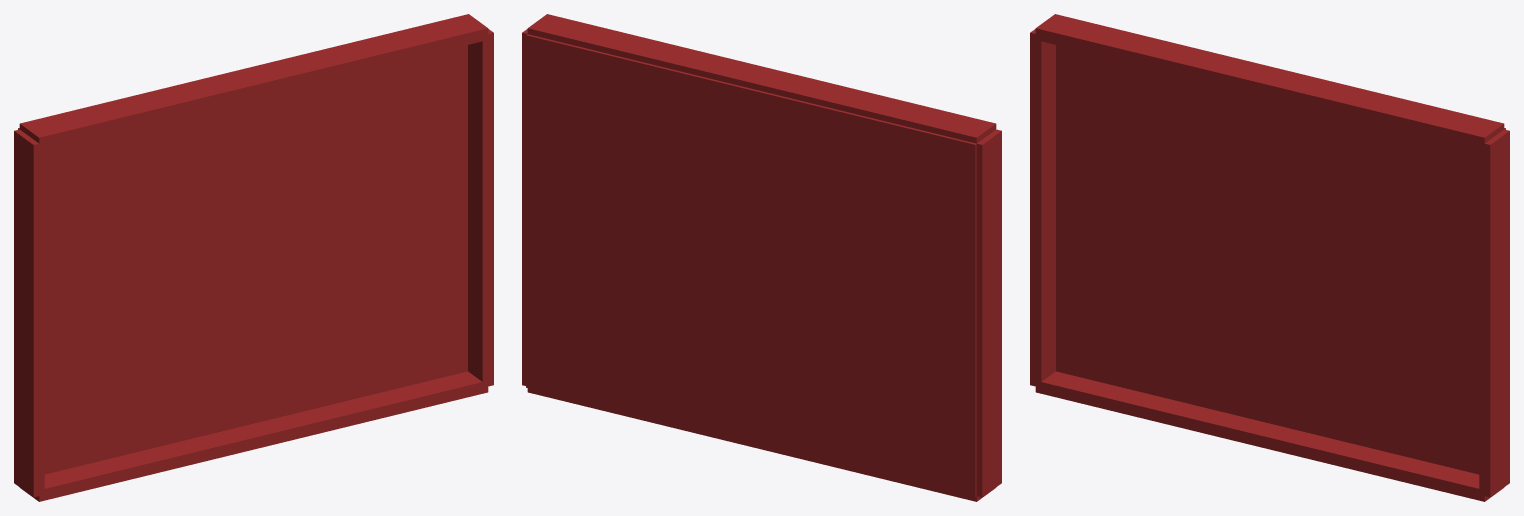
Rendered from nil_link_mesh.dae.
The picture shows the model from 3 angles, left to right: view 1: azimuth 30°, elevation 25°; view 2: azimuth 150°, elevation 25°; view 3: azimuth 330°, elevation 25°; orthographic projection.
Visible parts, largest first — view 1: nil_link (×5); view 2: nil_link (×5); view 3: nil_link (×5).
Boxes of the visible parts, x1,y1,x2,y2 form: nil_link (×5): (14,14,493,501); nil_link (×5): (522,14,1001,501); nil_link (×5): (1030,14,1509,501).
Bounding box in the file's own units: 0.41 × 0.31 × 0.0325.
